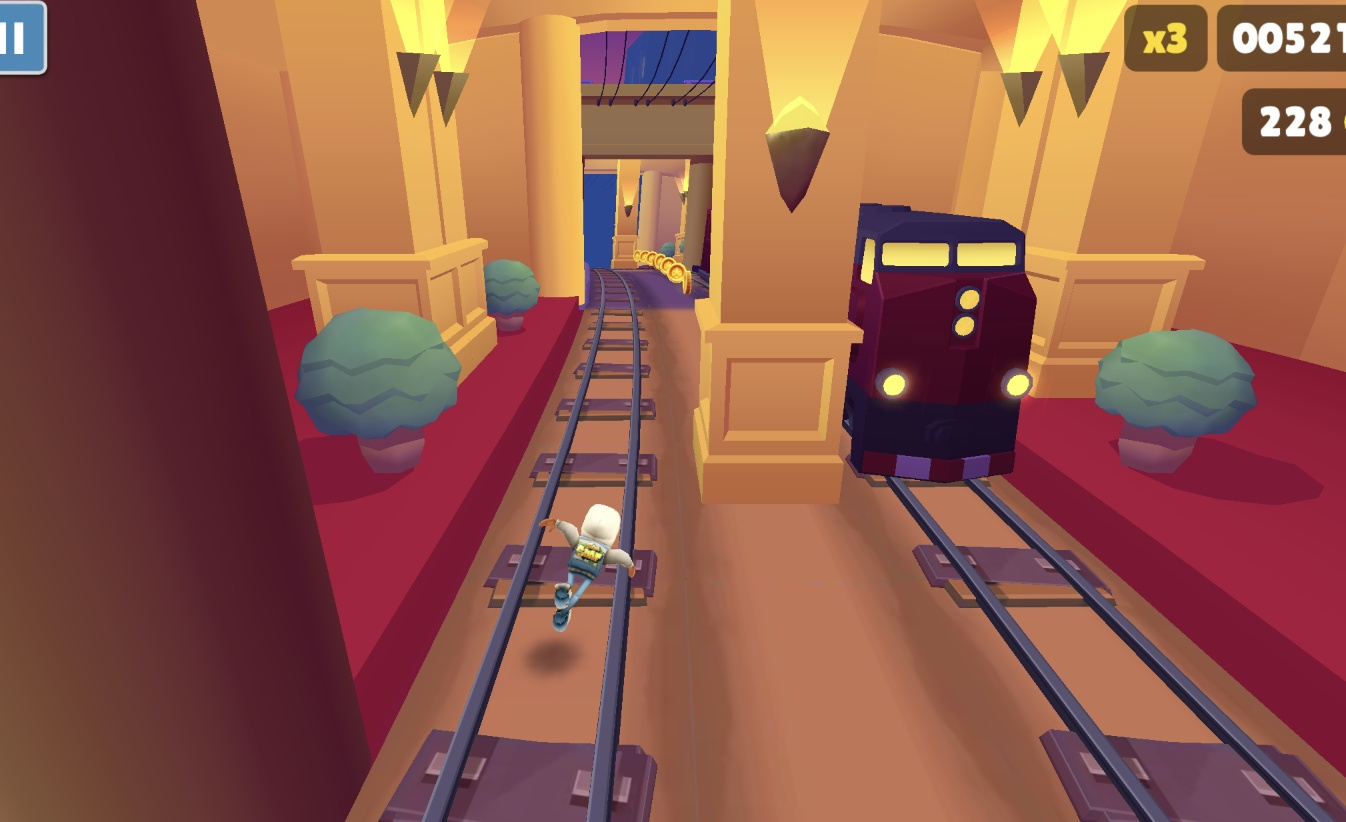pillar: (694, 0, 894, 504), (610, 158, 644, 270)
train: (852, 204, 1038, 480)
